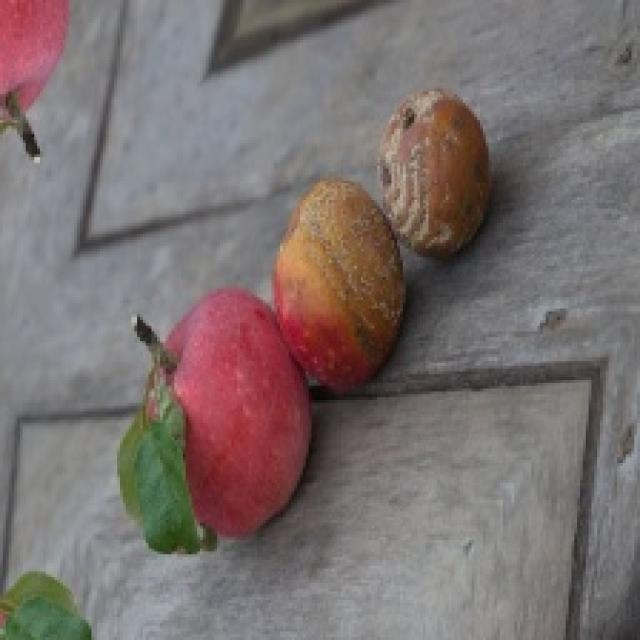rotten_apple: (277, 182, 402, 390), (384, 91, 490, 253)
